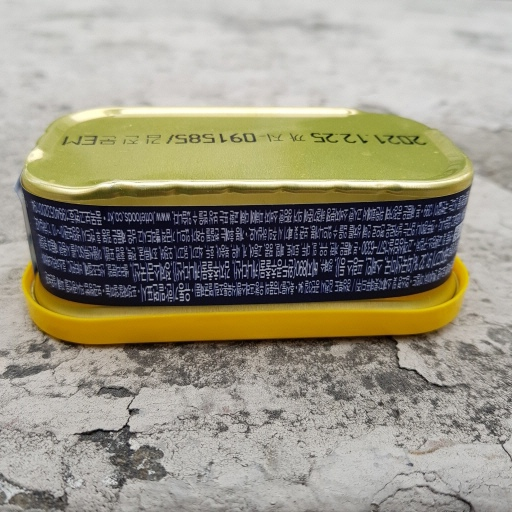Metal_2: (18, 106, 475, 342)
